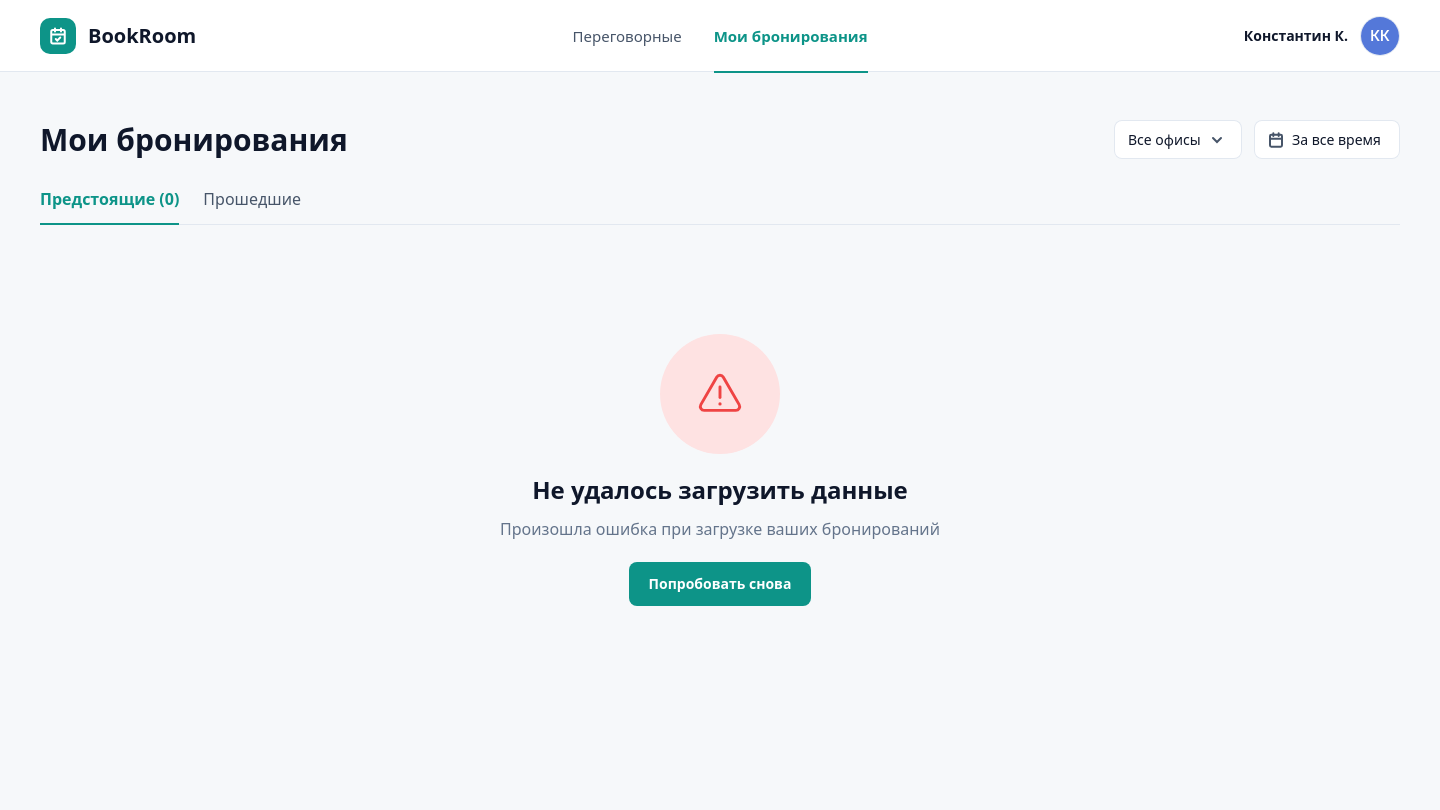
Test case: BookingsPage › показывает ошибку загрузки и повторяет запрос
Expected: the message shows "Не удалось загрузить данные", [532, 472, 908, 506]
Expected: the message shows "Произошла ошибка при загрузке ваших бронирований", [500, 518, 940, 540]
Step 1. Click the button "Попробовать снова" → (720, 584), box [629, 562, 811, 606]
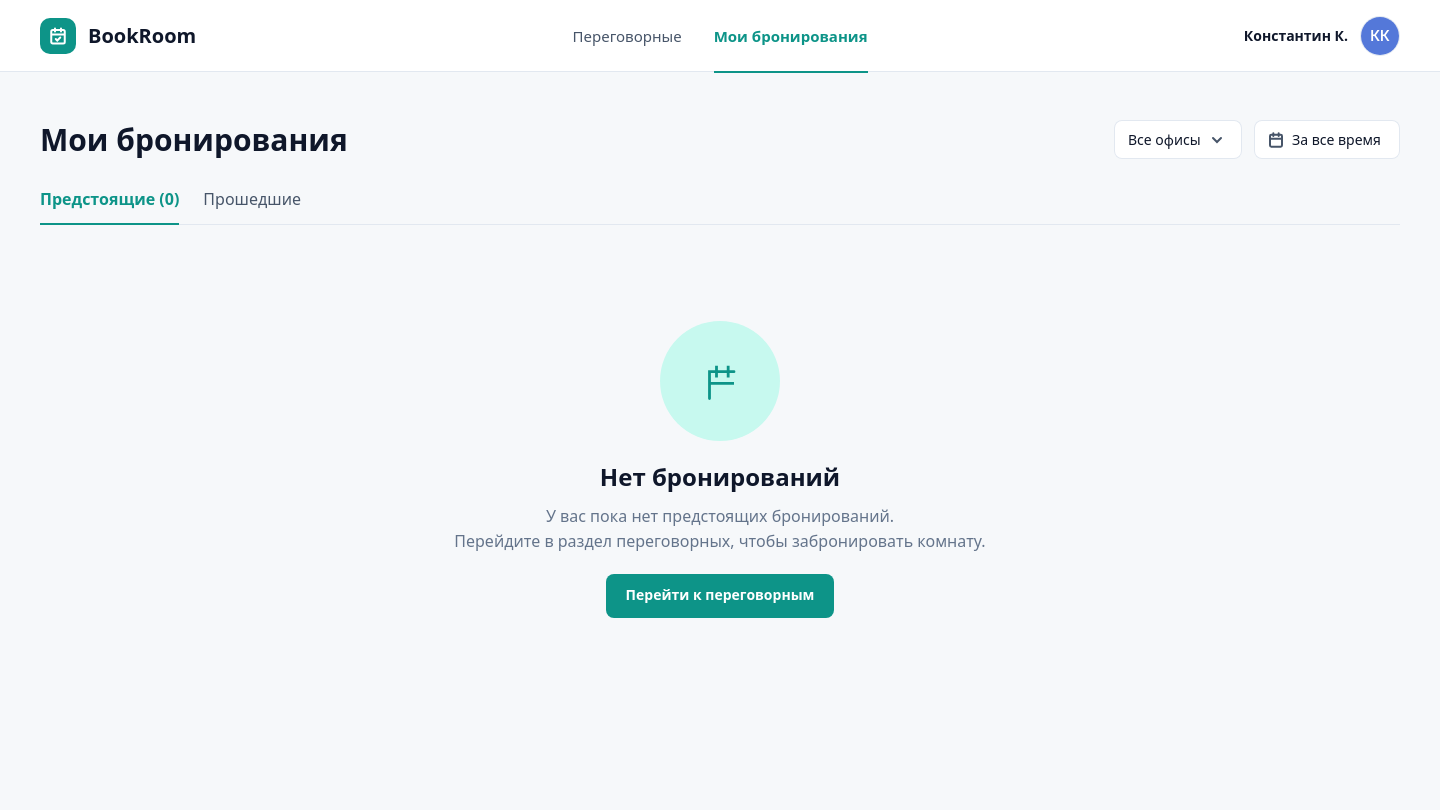
Now the heading "Нет бронирований" is shown, box [600, 461, 840, 492]
